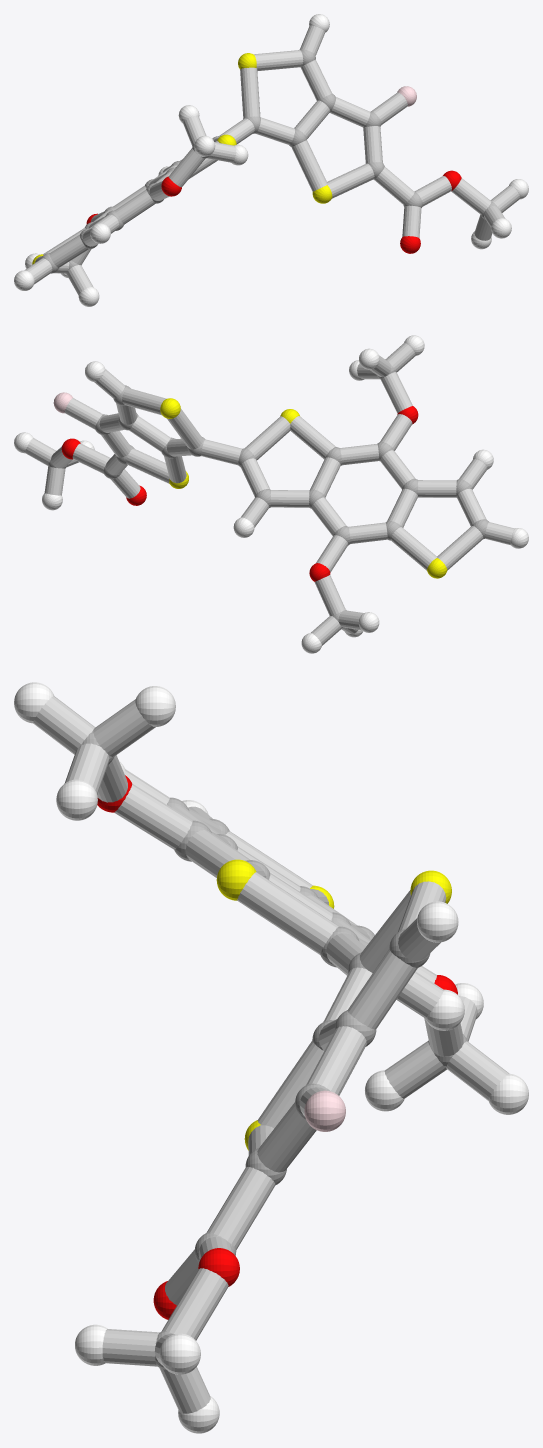
The model's file is Dimethoxy_Benzodithiophene_Phi_15_Theta_90_Methylcarbonyl_3_Fluoro_Thienothiophene.glb.
3 renders of one model, top to bottom at view 1: azimuth 30°, elevation 25°; view 2: azimuth 150°, elevation 25°; view 3: azimuth 270°, elevation 25°, orthographic. The views are drawn at different scales.
Parts seen in each view (by area): view 1: grp15205, grp8689, grp1, grp13395, grp7241; view 2: grp15205, grp8689, grp1, grp7241, grp13395; view 3: grp15205, grp8689, grp1, grp13395, grp7241, grp14843.
Boxes of the visible parts, x1,y1,x2,y2 form: grp15205: [25, 25, 520, 295]; grp8689: [14, 14, 528, 306]; grp1: [40, 49, 498, 273]; grp13395: [86, 170, 461, 253]; grp7241: [32, 53, 332, 264]; grp15205: [25, 342, 514, 645]; grp8689: [14, 335, 528, 653]; grp1: [48, 364, 488, 628]; grp7241: [160, 398, 447, 578]; grp13395: [61, 406, 418, 581]; grp15205: [33, 696, 509, 1413]; grp8689: [14, 682, 528, 1433]; grp1: [80, 730, 467, 1369]; grp13395: [97, 775, 457, 1319]; grp7241: [216, 859, 451, 1150]; grp14843: [304, 1090, 345, 1131].
Size of the model in its own units: 16.97 by 7.37 by 7.42.
